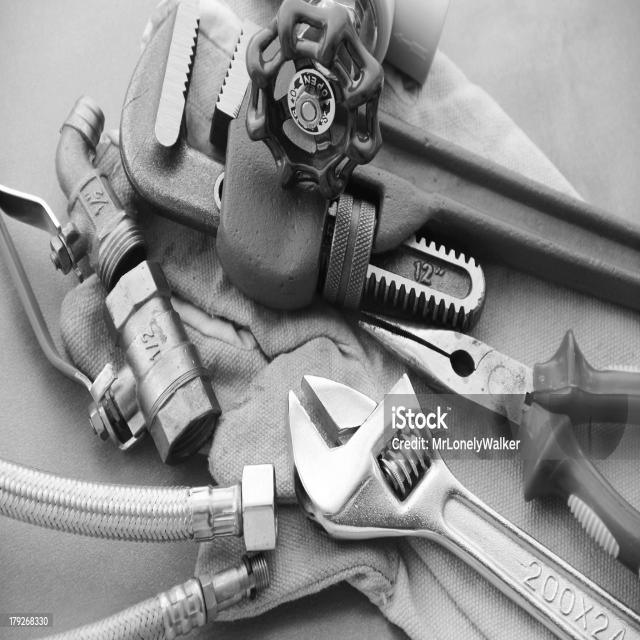golves: (98, 0, 640, 640)
pliers: (354, 304, 640, 576)
wrench: (112, 0, 640, 328), (283, 370, 640, 640)
